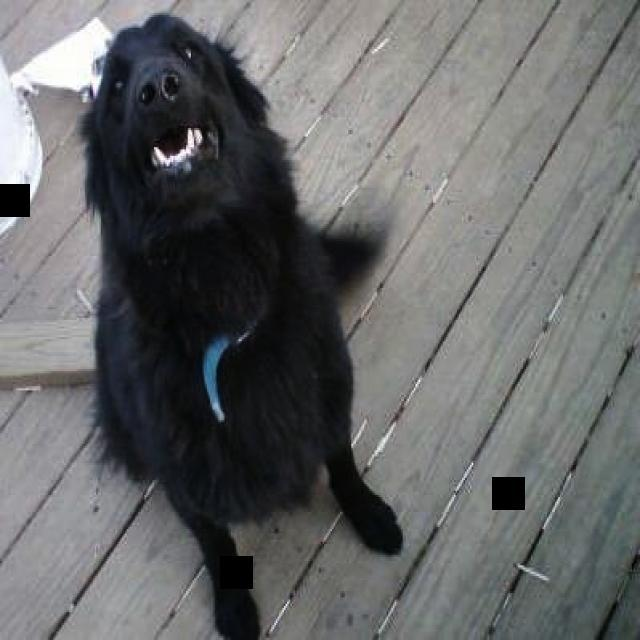adult_dog: (75, 13, 406, 640)
